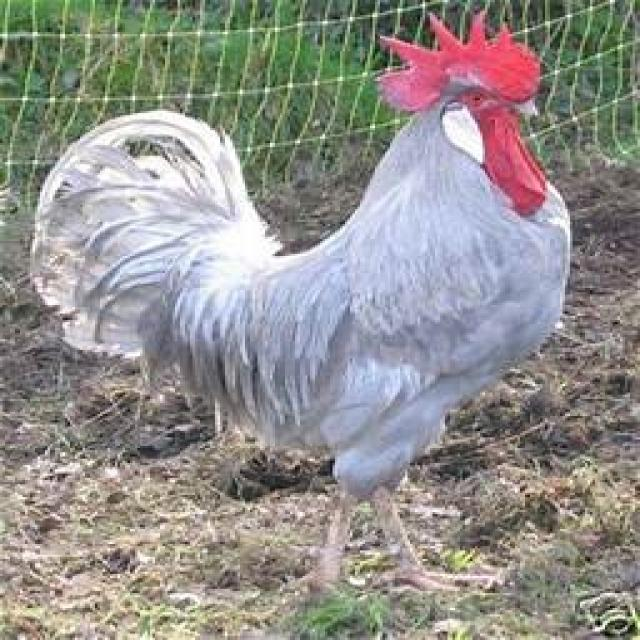chicken: (25, 6, 573, 604)
